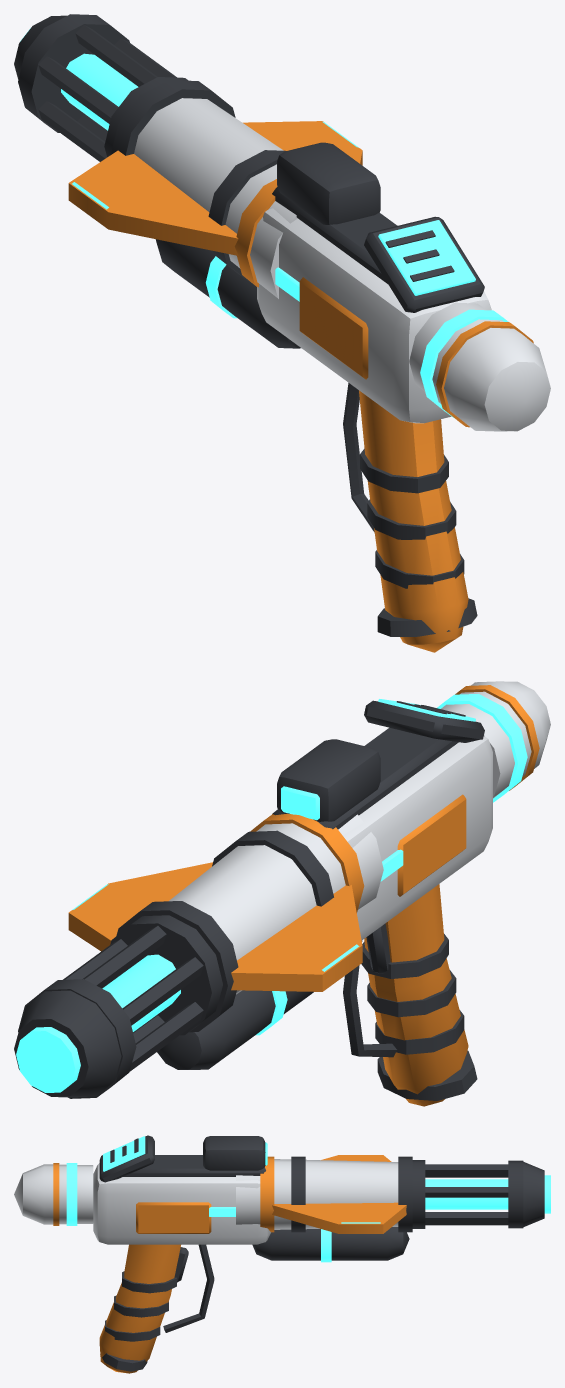
File: multitool.glb
The picture shows the model from 3 angles, top to bottom: view 1: azimuth 30°, elevation 25°; view 2: azimuth 150°, elevation 25°; view 3: azimuth 270°, elevation 25°; orthographic projection. The views are drawn at different scales.
Visible parts, largest first — view 1: Multitool; view 2: Multitool; view 3: Multitool.
Boxes of the visible parts, bbox=[...] form: Multitool: bbox=[14, 14, 550, 652]; Multitool: bbox=[14, 681, 550, 1106]; Multitool: bbox=[14, 1135, 550, 1373].
Bounding box in the file's own units: 0.184 × 0.2854 × 0.602.
